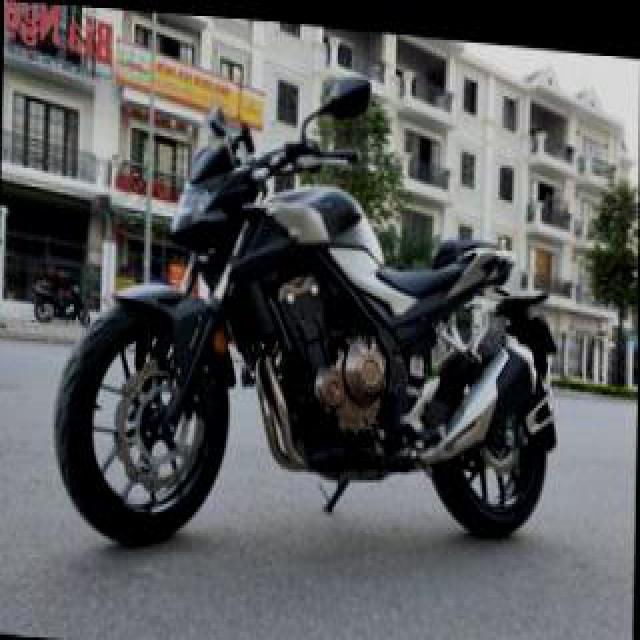CB500F: (53, 121, 561, 580)
